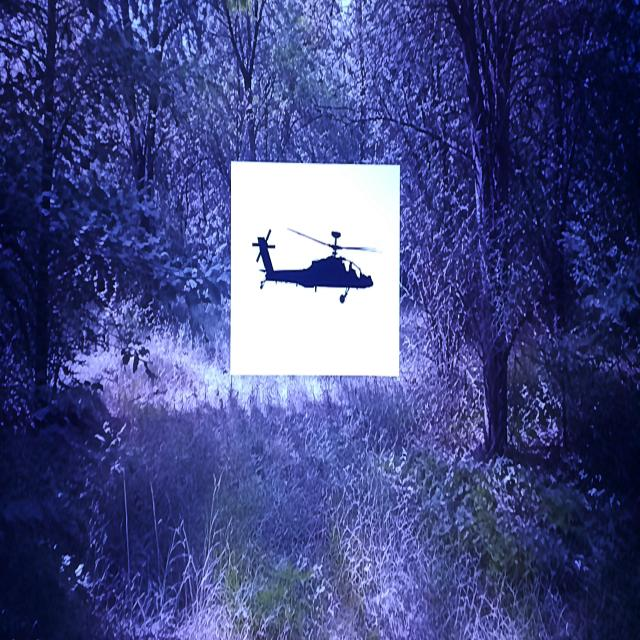Apache friendly: (253, 229, 375, 302)
